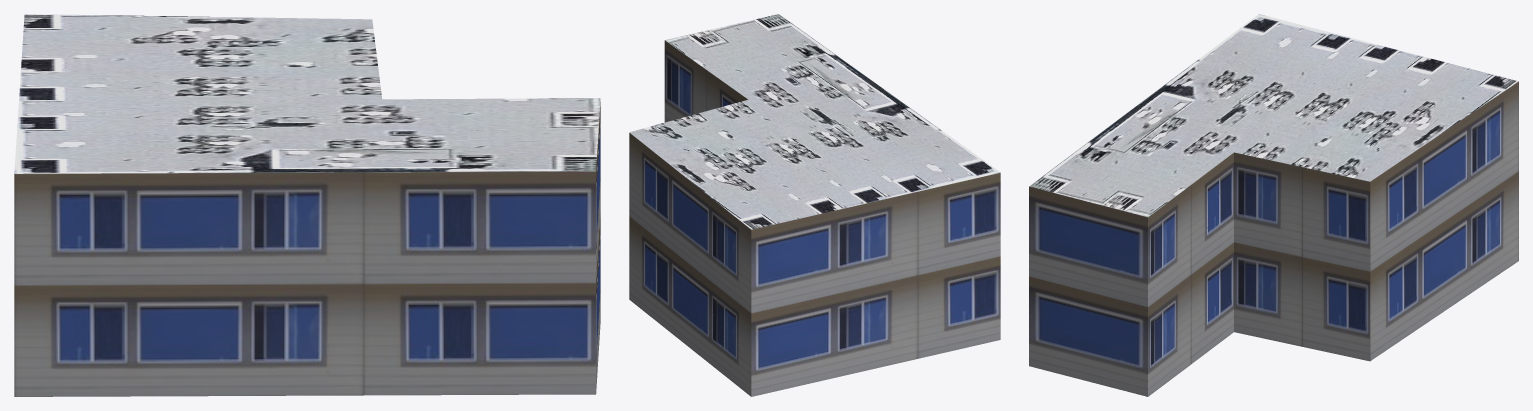
Rendered from ResTex__3644.fbx.
3 views of the same model, side by side, from view 1: azimuth 30°, elevation 25°; view 2: azimuth 150°, elevation 25°; view 3: azimuth 270°, elevation 25° (orthographic). The views are drawn at different scales.
Parts seen in each view (by area): view 1: CityEngineMaterial_23_m, CityEngineMaterial_4_m; view 2: CityEngineMaterial_23_m, CityEngineMaterial_4_m; view 3: CityEngineMaterial_23_m, CityEngineMaterial_4_m.
Part boxes in pixels (<box>): CityEngineMaterial_23_m: <box>14,101,600,396</box>; CityEngineMaterial_4_m: <box>14,14,600,173</box>; CityEngineMaterial_23_m: <box>629,40,1000,396</box>; CityEngineMaterial_4_m: <box>629,14,1000,229</box>; CityEngineMaterial_23_m: <box>1029,81,1518,396</box>; CityEngineMaterial_4_m: <box>1029,14,1518,217</box>.
Bounding box in the file's own units: 14.56 × 6 × 14.82.
2 materials, 2 textured.
